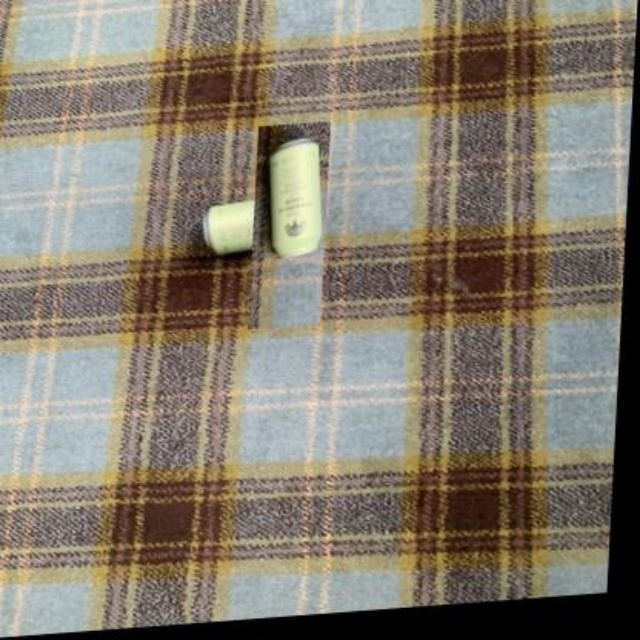trash: (269, 138, 320, 255), (203, 200, 254, 254)
